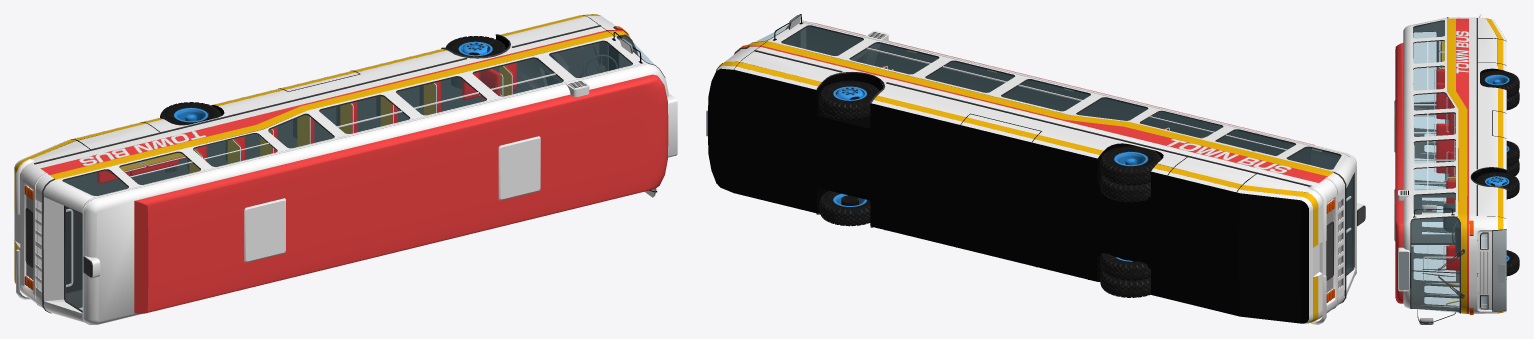
The model's file is bus_detail.glb.
3 renders of one model, left to right at view 1: azimuth 30°, elevation 25°; view 2: azimuth 150°, elevation 25°; view 3: azimuth 270°, elevation 25°, orthographic. The views are drawn at different scales.
Visible parts, largest first — view 1: Object_34, Object_25, Object_16, Object_22, Object_33, Object_23, Object_35, Object_24, Object_32, Object_26, Object_27, Object_14 (+3 smaller); view 2: Object_6, Object_25, Object_27, Object_16, Object_33, Object_34, Object_32, Object_23, Object_11, Object_14, Object_22, Object_10 (+5 smaller); view 3: Object_25, Object_16, Object_33, Object_27, Object_34, Object_24, Object_22, Object_23, Object_17, Object_26, Object_14, Object_9 (+17 smaller).
Boxes of the visible parts, left/top/right/bottom form: Object_34: left=40, top=30, right=668, bottom=313; Object_25: left=14, top=14, right=668, bottom=324; Object_16: left=63, top=36, right=654, bottom=310; Object_22: left=62, top=26, right=636, bottom=307; Object_33: left=14, top=14, right=629, bottom=283; Object_23: left=25, top=25, right=665, bottom=313; Object_35: left=109, top=66, right=510, bottom=173; Object_24: left=97, top=63, right=516, bottom=183; Object_32: left=16, top=63, right=645, bottom=324; Object_26: left=16, top=26, right=677, bottom=287; Object_27: left=66, top=50, right=561, bottom=306; Object_14: left=160, top=102, right=221, bottom=125; Object_6: left=708, top=23, right=1342, bottom=323; Object_25: left=716, top=20, right=1364, bottom=323; Object_27: left=782, top=26, right=1364, bottom=273; Object_16: left=756, top=25, right=1353, bottom=273; Object_33: left=718, top=41, right=1333, bottom=323; Object_34: left=749, top=22, right=1327, bottom=182; Object_32: left=802, top=21, right=1356, bottom=324; Object_23: left=752, top=26, right=1365, bottom=303; Object_11: left=819, top=80, right=879, bottom=119; Object_14: left=1100, top=146, right=1161, bottom=185; Object_22: left=735, top=14, right=1341, bottom=214; Object_10: left=819, top=190, right=870, bottom=226; Object_25: left=1394, top=17, right=1506, bottom=313; Object_16: left=1411, top=21, right=1487, bottom=312; Object_33: left=1447, top=18, right=1503, bottom=313; Object_27: left=1411, top=21, right=1479, bottom=311; Object_34: left=1395, top=18, right=1468, bottom=313; Object_24: left=1436, top=69, right=1459, bottom=270; Object_22: left=1411, top=20, right=1506, bottom=323; Object_23: left=1410, top=17, right=1506, bottom=323; Object_17: left=1493, top=229, right=1506, bottom=311; Object_26: left=1398, top=41, right=1477, bottom=291; Object_14: left=1480, top=70, right=1519, bottom=97; Object_9: left=1420, top=41, right=1488, bottom=318.
Bounding box in the file's own units: 131 × 31.87 × 32.36.
20 materials, 3 textured.
